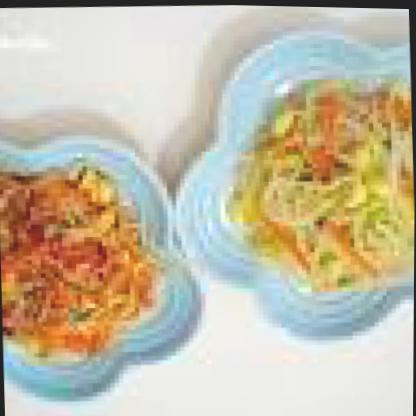seasoned bean sprouts: (223, 76, 415, 309), (0, 153, 150, 364)
